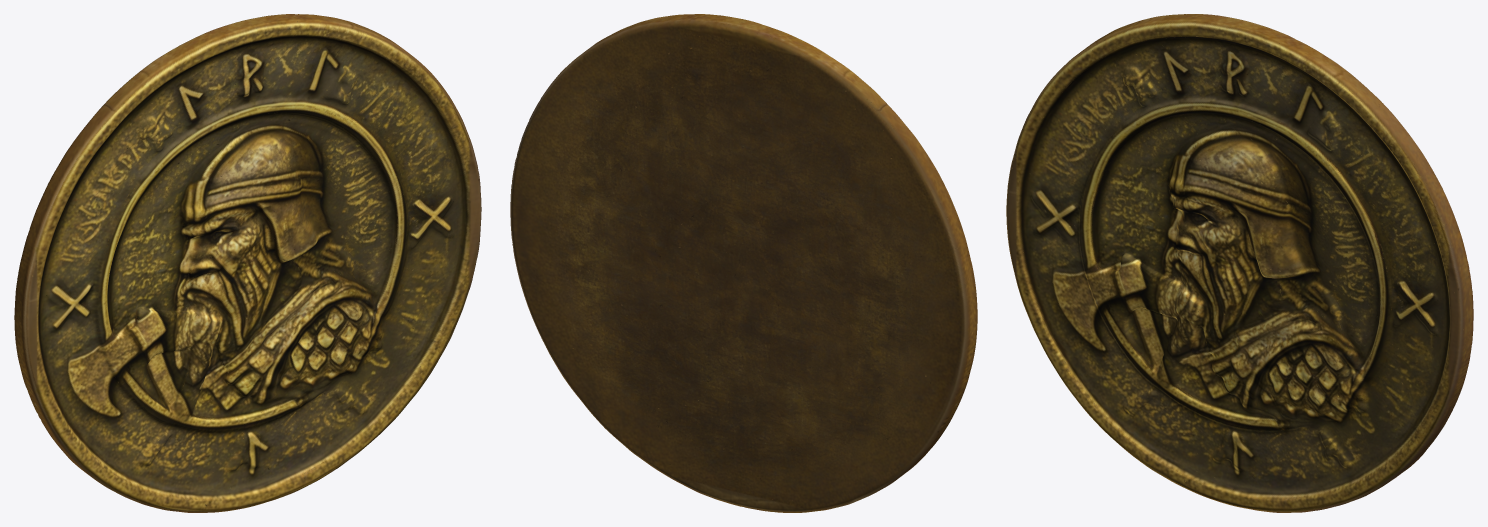
File: warrior_coin.glb
3 views of the same model, side by side, from view 1: azimuth 30°, elevation 25°; view 2: azimuth 150°, elevation 25°; view 3: azimuth 330°, elevation 25° (orthographic).
Visible parts, largest first — view 1: Dwarven Warrior coin; view 2: Dwarven Warrior coin; view 3: Dwarven Warrior coin.
Part boxes in pixels (left/top/right/bottom): Dwarven Warrior coin: left=14, top=14, right=481, bottom=512; Dwarven Warrior coin: left=510, top=14, right=977, bottom=512; Dwarven Warrior coin: left=1006, top=14, right=1473, bottom=512.
Bounding box in the file's own units: 2 × 2 × 0.1119.
1 material, 1 textured.
